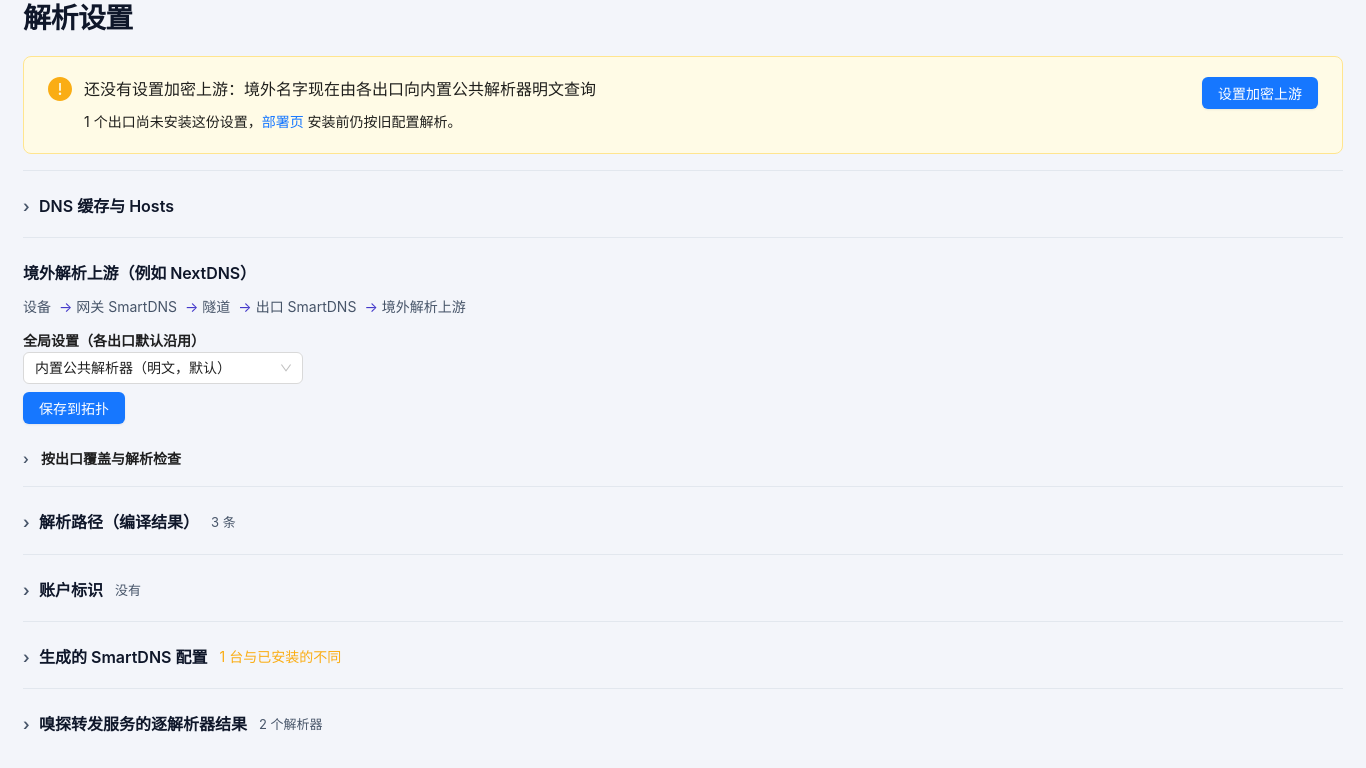
Scenario: resolution settings page: guidance › is a page of its own, and without an encrypted upstream says so first with a prominent action
Expected: the heading "解析设置" is shown, left=23, top=1, right=133, bottom=35
Expected: the heading "境外解析上游（例如 NextDNS）" is shown, left=23, top=262, right=256, bottom=284
Click the button "设置加密上游". click: (1260, 93)
box: left=1202, top=77, right=1318, bottom=109
(page scrolled)
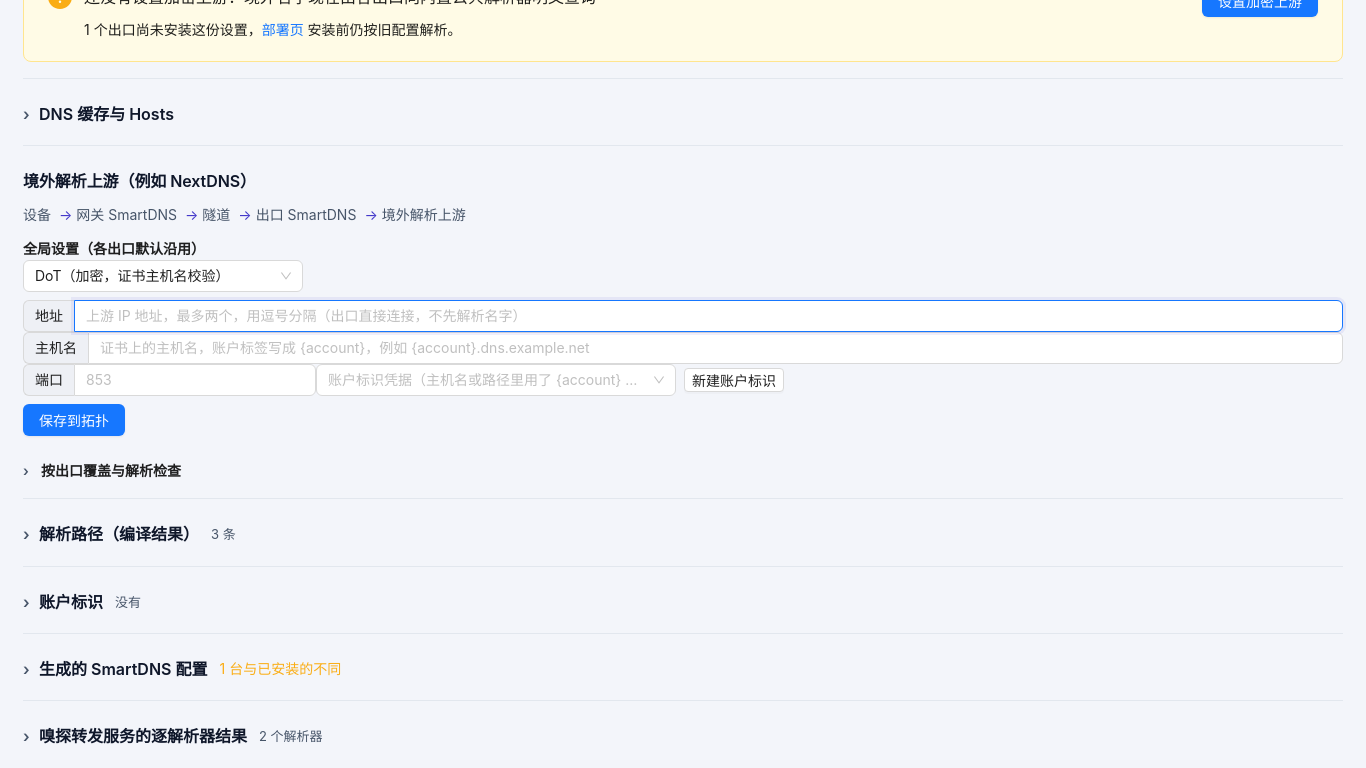
Expected: the field named "TLS 主机名" is shown, left=88, top=332, right=1343, bottom=364
